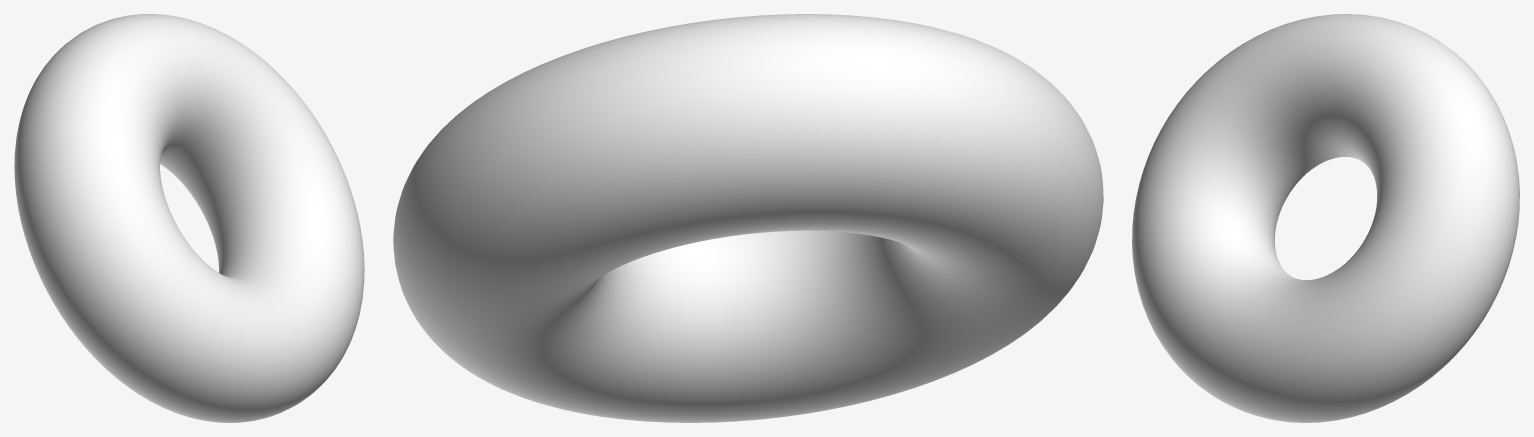
The model's file is donut.glb.
3 renders of one model, left to right at view 1: azimuth 30°, elevation 25°; view 2: azimuth 150°, elevation 25°; view 3: azimuth 270°, elevation 25°, orthographic. The views are drawn at different scales.
Visible parts, largest first — view 1: mesh_id26; view 2: mesh_id26; view 3: mesh_id26.
Part boxes in pixels (bbox=[...]): mesh_id26: bbox=[14, 14, 364, 422]; mesh_id26: bbox=[393, 14, 1103, 422]; mesh_id26: bbox=[1132, 14, 1519, 422].
Size of the model in its own units: 0.2192 by 0.1876 by 0.2016.
1 material, 1 textured.
